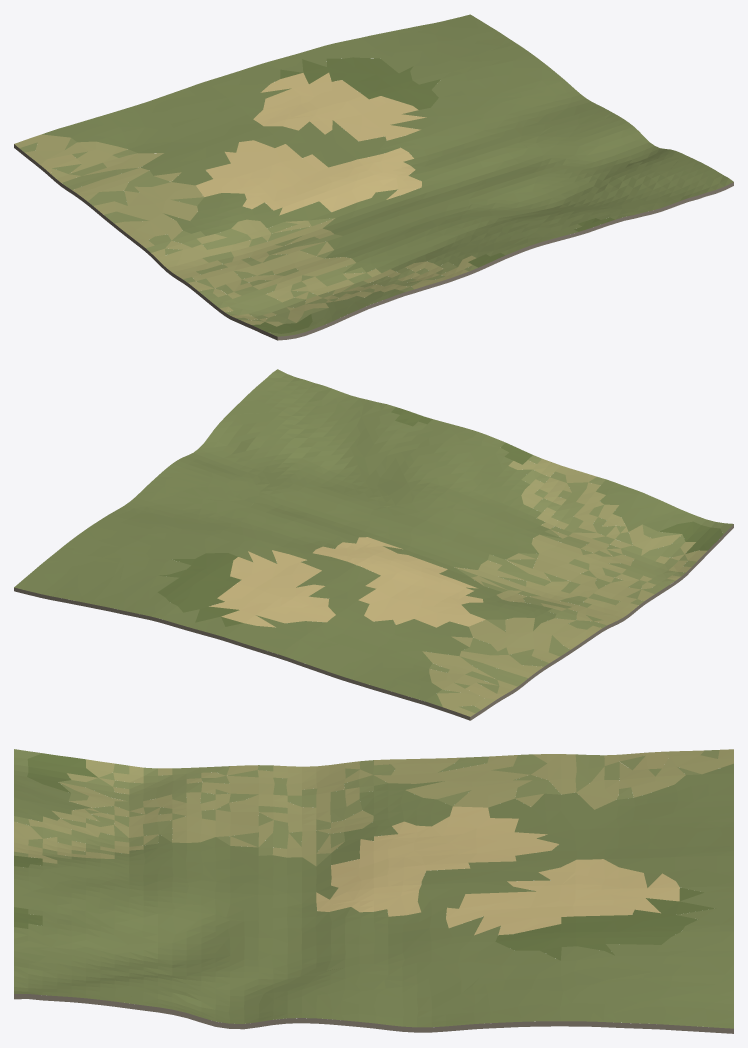
File: parca_+3_-4-uzak.glb
3 renders of one model, top to bottom at view 1: azimuth 30°, elevation 25°; view 2: azimuth 150°, elevation 25°; view 3: azimuth 270°, elevation 25°, orthographic. The views are drawn at different scales.
Parts seen in each view (by area): view 1: parca_+3_-4_arazi_uzak; view 2: parca_+3_-4_arazi_uzak; view 3: parca_+3_-4_arazi_uzak.
Boxes of the visible parts, x1=… form: parca_+3_-4_arazi_uzak: x1=14, y1=14, x2=733, y2=340; parca_+3_-4_arazi_uzak: x1=14, y1=369, x2=733, y2=720; parca_+3_-4_arazi_uzak: x1=14, y1=749, x2=733, y2=1033.
Size of the model in its own units: 1000 by 129 by 1000.
